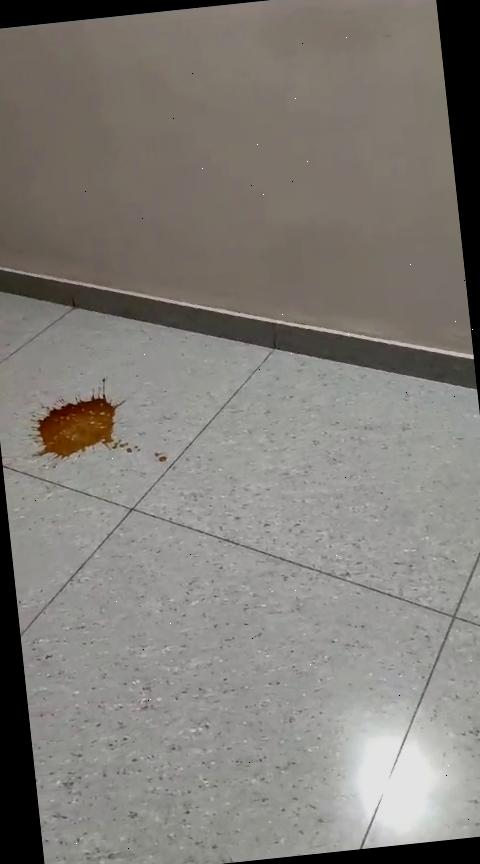dirty_floor: (16, 368, 172, 486)
